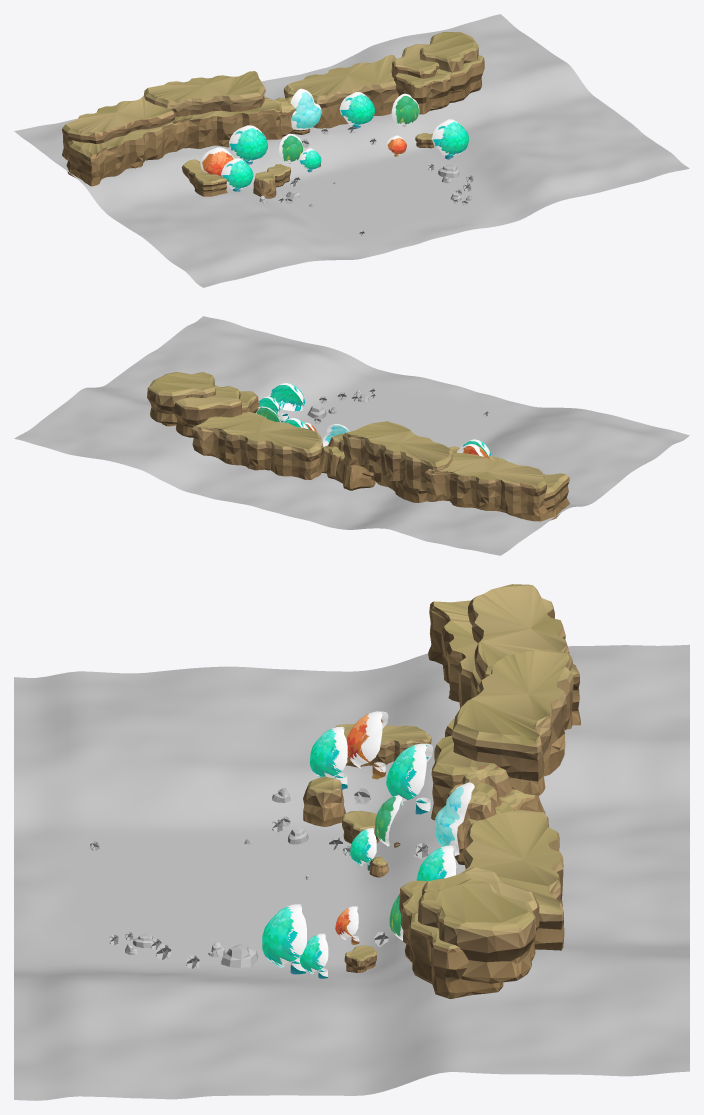
The model's file is genesis_arena.glb.
3 renders of one model, top to bottom at view 1: azimuth 30°, elevation 25°; view 2: azimuth 150°, elevation 25°; view 3: azimuth 270°, elevation 25°, orthographic. The views are drawn at different scales.
Parts seen in each view (by area): view 1: G_genesis_Ground, P_genesis_00_mesa_wide, P_genesis_03_mesa_a, P_genesis_02_ridge, P_genesis_06_tree_a, P_genesis_36_tree_a, P_genesis_13_ridge, P_genesis_04_tree_c, P_genesis_05_tree_a, P_genesis_20_tree_a, P_genesis_07_tree_b, P_genesis_08_tree_d (+3 smaller); view 2: G_genesis_Ground, P_genesis_00_mesa_wide, P_genesis_02_ridge, P_genesis_03_mesa_a, P_genesis_01_mesa_b, P_genesis_36_tree_a; view 3: G_genesis_Ground, P_genesis_00_mesa_wide, P_genesis_03_mesa_a, P_genesis_02_ridge, P_genesis_01_mesa_b, P_genesis_36_tree_a, P_genesis_06_tree_a, P_genesis_08_tree_d, P_genesis_15_butte, P_genesis_20_tree_a, P_genesis_13_ridge, P_genesis_04_tree_c (+5 smaller).
Boxes of the visible parts, x1=… form: G_genesis_Ground: x1=14, y1=14, x2=689, y2=287; P_genesis_00_mesa_wide: x1=62, y1=71, x2=282, y2=186; P_genesis_03_mesa_a: x1=391, y1=32, x2=484, y2=114; P_genesis_02_ridge: x1=284, y1=55, x2=398, y2=128; P_genesis_06_tree_a: x1=229, y1=125, x2=267, y2=164; P_genesis_36_tree_a: x1=431, y1=119, x2=468, y2=159; P_genesis_13_ridge: x1=181, y1=159, x2=227, y2=196; P_genesis_04_tree_c: x1=290, y1=88, x2=321, y2=130; P_genesis_05_tree_a: x1=339, y1=92, x2=374, y2=128; P_genesis_20_tree_a: x1=221, y1=158, x2=253, y2=191; P_genesis_07_tree_b: x1=391, y1=93, x2=419, y2=126; P_genesis_08_tree_d: x1=200, y1=147, x2=234, y2=176; G_genesis_Ground: x1=14, y1=316, x2=689, y2=555; P_genesis_00_mesa_wide: x1=342, y1=421, x2=569, y2=521; P_genesis_02_ridge: x1=191, y1=412, x2=322, y2=479; P_genesis_03_mesa_a: x1=147, y1=372, x2=259, y2=437; P_genesis_01_mesa_b: x1=320, y1=433, x2=375, y2=490; P_genesis_36_tree_a: x1=267, y1=383, x2=305, y2=422; G_genesis_Ground: x1=14, y1=644, x2=689, y2=1100; P_genesis_00_mesa_wide: x1=428, y1=584, x2=580, y2=820; P_genesis_03_mesa_a: x1=399, y1=867, x2=539, y2=998; P_genesis_02_ridge: x1=462, y1=810, x2=564, y2=950; P_genesis_01_mesa_b: x1=447, y1=768, x2=548, y2=864; P_genesis_36_tree_a: x1=262, y1=904, x2=306, y2=974; P_genesis_06_tree_a: x1=386, y1=743, x2=432, y2=814; P_genesis_08_tree_d: x1=346, y1=711, x2=388, y2=779; P_genesis_15_butte: x1=303, y1=776, x2=345, y2=826; P_genesis_20_tree_a: x1=310, y1=726, x2=347, y2=789; P_genesis_13_ridge: x1=335, y1=724, x2=431, y2=767; P_genesis_04_tree_c: x1=435, y1=782, x2=474, y2=855.
Size of the model in its own units: 92.08 by 13.07 by 62.
